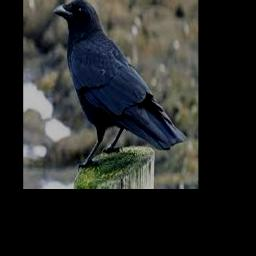Crow: (55, 0, 187, 169)
